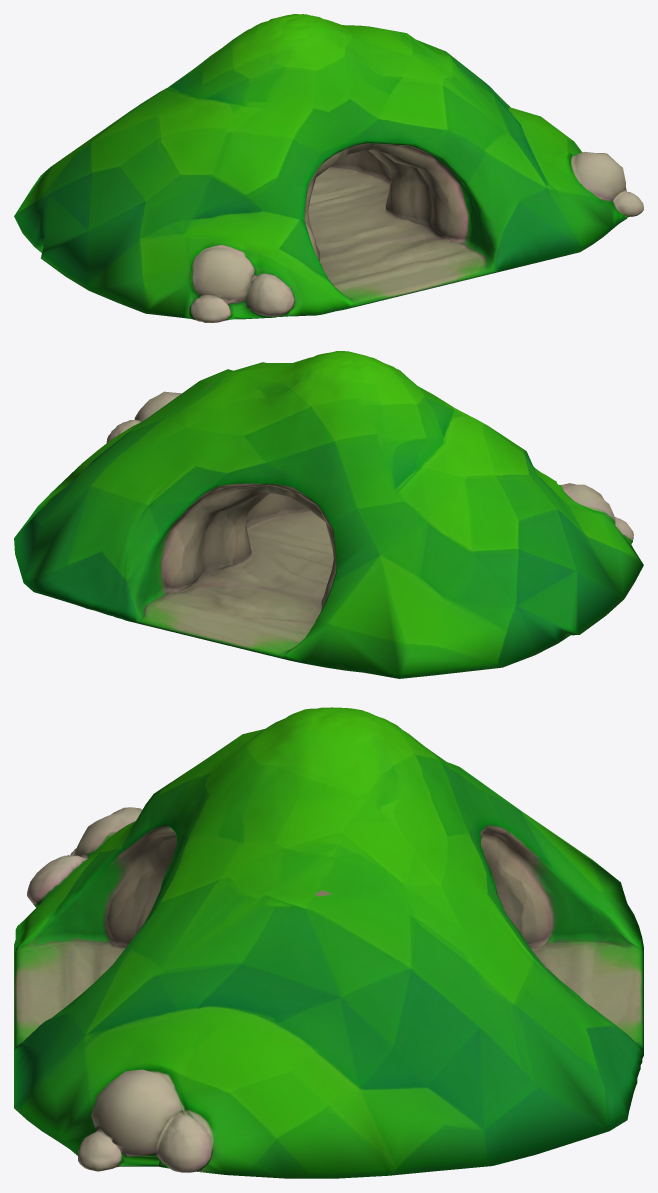
File: mountain0.glb
3 views of the same model, one above another, from view 1: azimuth 30°, elevation 25°; view 2: azimuth 150°, elevation 25°; view 3: azimuth 270°, elevation 25° (orthographic). The views are drawn at different scales.
Visible parts, largest first — view 1: tripo_node_a388ac05-881e-48f1-831d-48f19c5a9e62; view 2: tripo_node_a388ac05-881e-48f1-831d-48f19c5a9e62; view 3: tripo_node_a388ac05-881e-48f1-831d-48f19c5a9e62.
Part boxes in pixels (box(x1,y1,x2,y2)): tripo_node_a388ac05-881e-48f1-831d-48f19c5a9e62: box(14, 14, 643, 322); tripo_node_a388ac05-881e-48f1-831d-48f19c5a9e62: box(14, 351, 643, 678); tripo_node_a388ac05-881e-48f1-831d-48f19c5a9e62: box(14, 707, 643, 1178).
Size of the model in its own units: 0.9983 by 0.3536 by 0.7482.
Materials: 1 (1 with a texture image).
